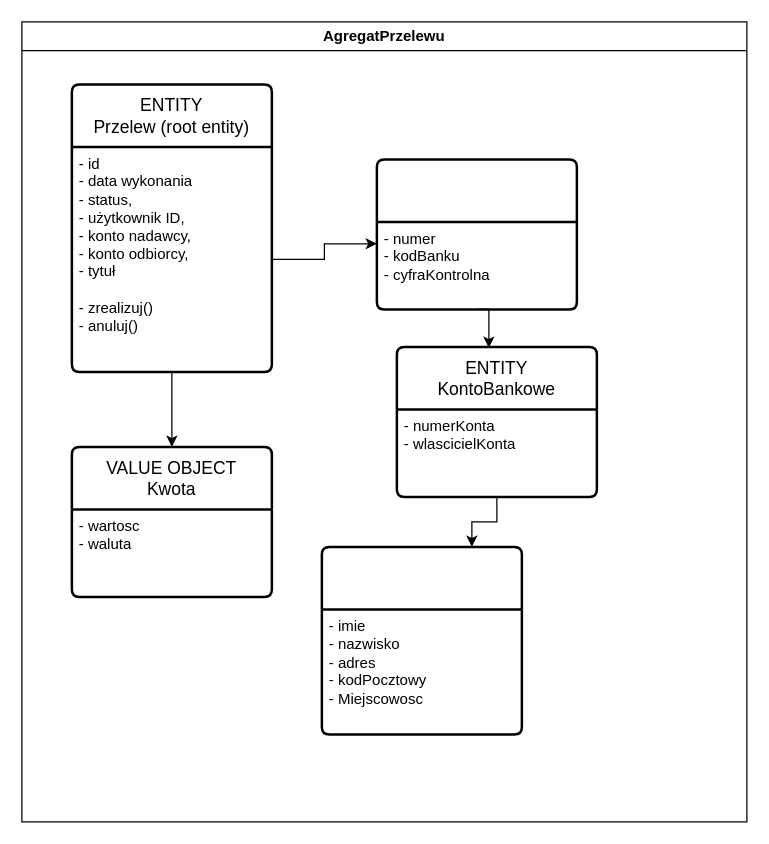
This 769x844 diagram has some shape labels left out. The box of each missing label's shape, as (x1, y1, x2, y2) in pixels:
ENTITY Klient: (320, 545, 522, 735)
VALUE OBJECT NumerKonta: (375, 158, 578, 310)
